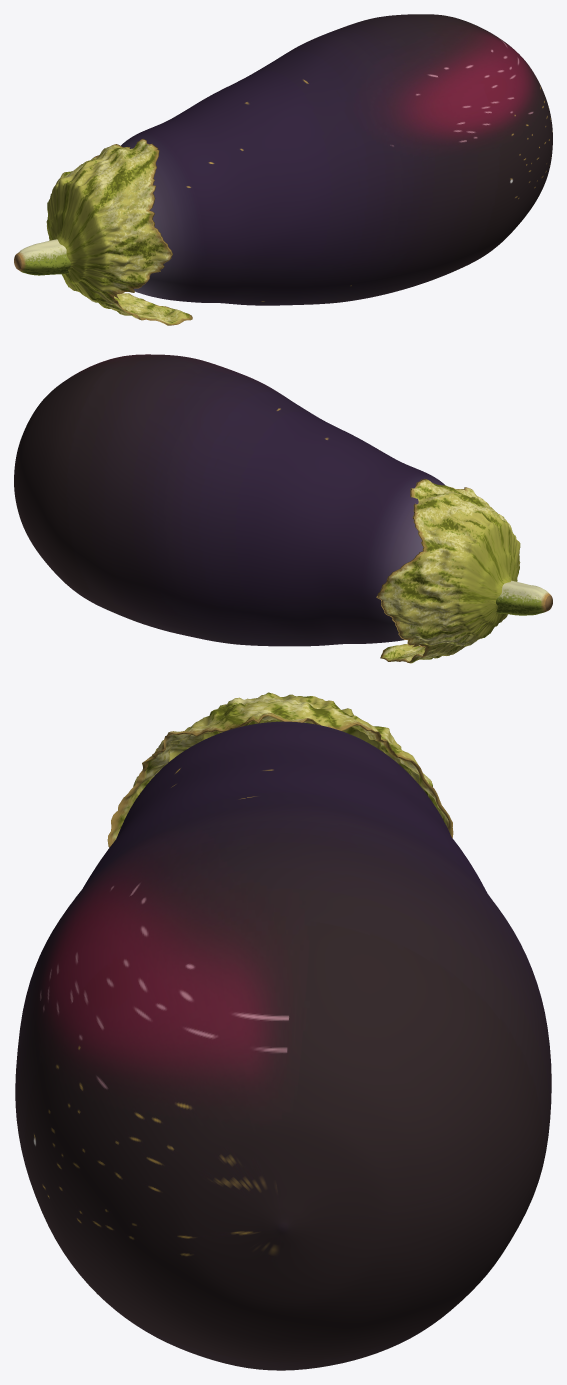
The model's file is eggplant.glb.
3 views of the same model, one above another, from view 1: azimuth 30°, elevation 25°; view 2: azimuth 150°, elevation 25°; view 3: azimuth 270°, elevation 25° (orthographic). The views are drawn at different scales.
Parts seen in each view (by area): view 1: Eggplant; view 2: Eggplant; view 3: Eggplant.
Boxes of the visible parts, bbox=[...] form: Eggplant: bbox=[14, 14, 552, 325]; Eggplant: bbox=[14, 354, 552, 663]; Eggplant: bbox=[15, 692, 551, 1370].
Bounding box in the file's own units: 1 × 0.4532 × 0.4471.
Materials: 1 (1 with a texture image).
